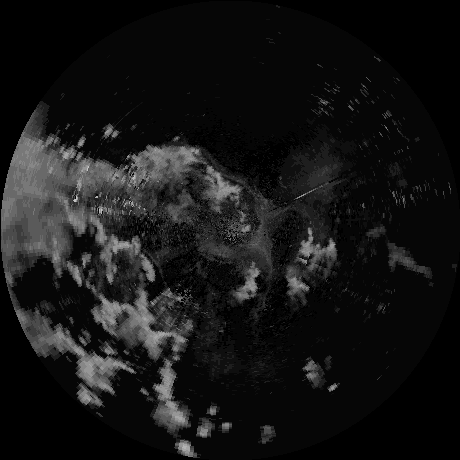frontgust: (219, 170, 258, 198), (144, 250, 166, 278), (261, 268, 270, 312)
